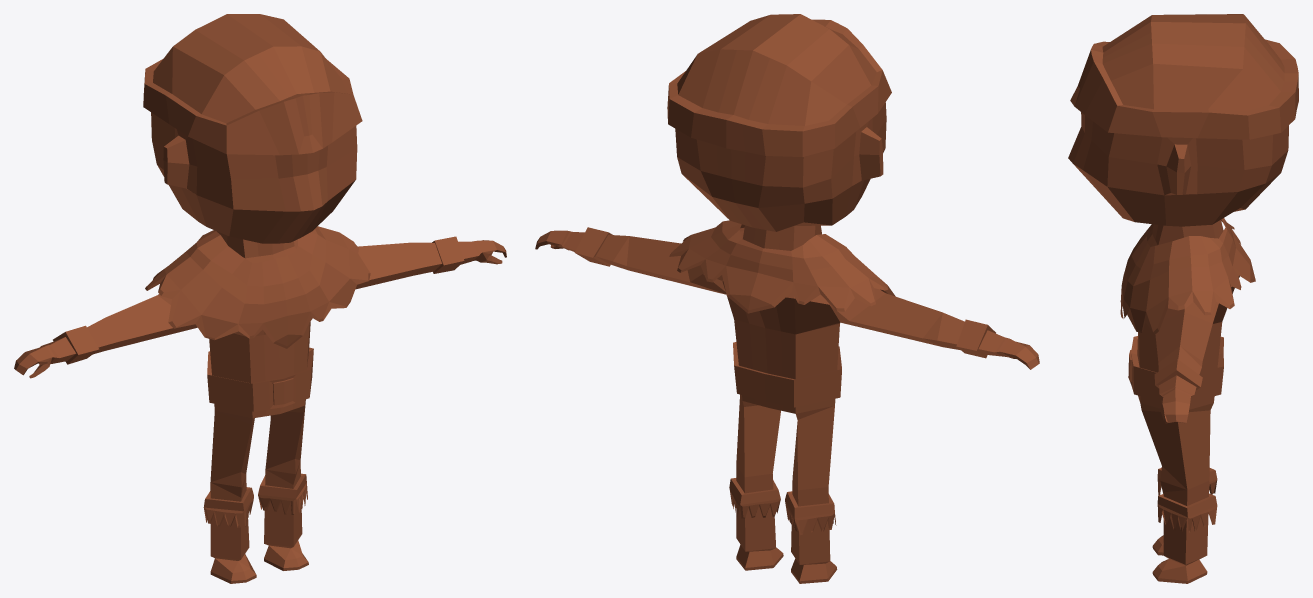
File: sm_barbarian_base_01.glb
3 renders of one model, left to right at view 1: azimuth 30°, elevation 25°; view 2: azimuth 150°, elevation 25°; view 3: azimuth 270°, elevation 25°, orthographic. The views are drawn at different scales.
Visible parts, largest first — view 1: Cube; view 2: Cube; view 3: Cube.
Boxes of the visible parts, x1,y1,x2,y2 form: Cube: (14, 14, 506, 583); Cube: (535, 14, 1039, 583); Cube: (1068, 14, 1298, 583).
Bounding box in the file's own units: 1.51 × 1.56 × 0.6042.
